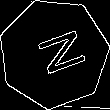N_W: (23, 26, 84, 81)
